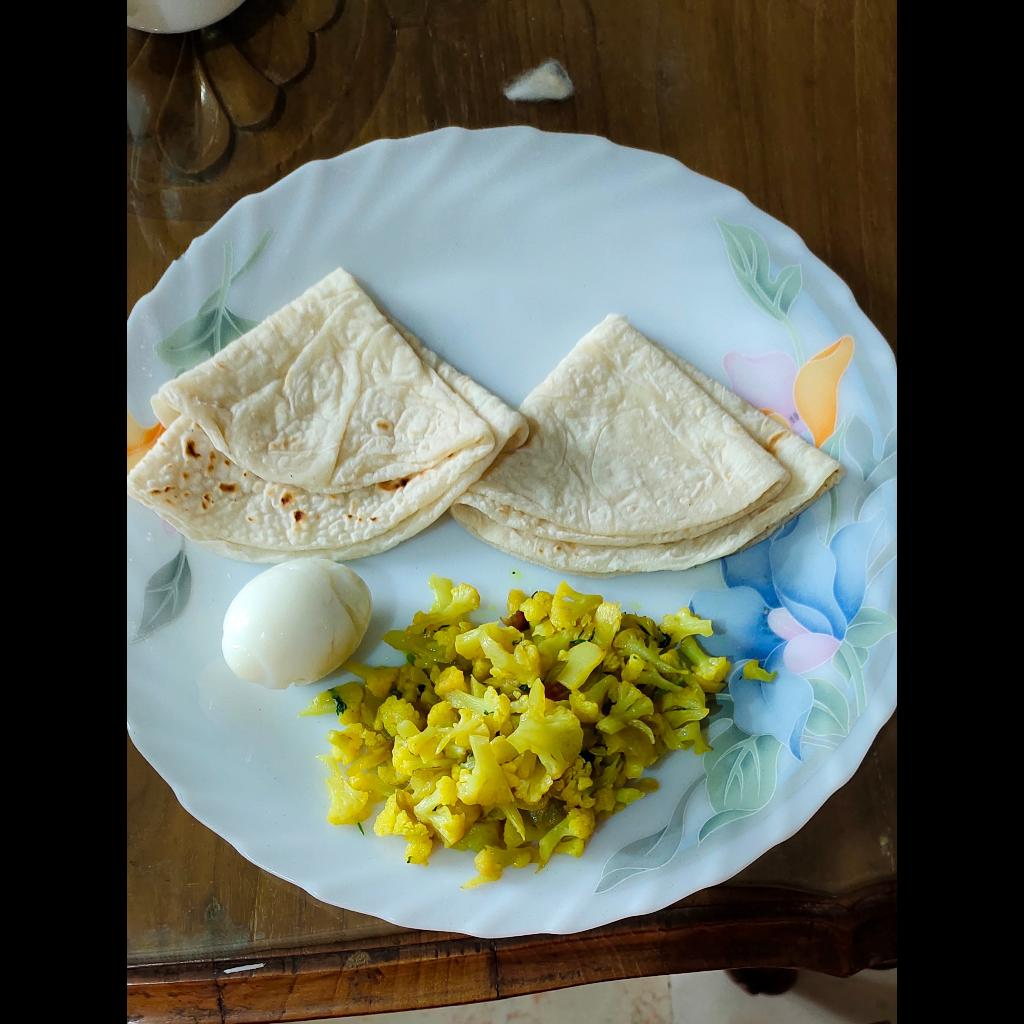cauliflower: (302, 571, 734, 888)
egg-boiled: (219, 559, 372, 690)
ruti: (129, 270, 842, 575)
